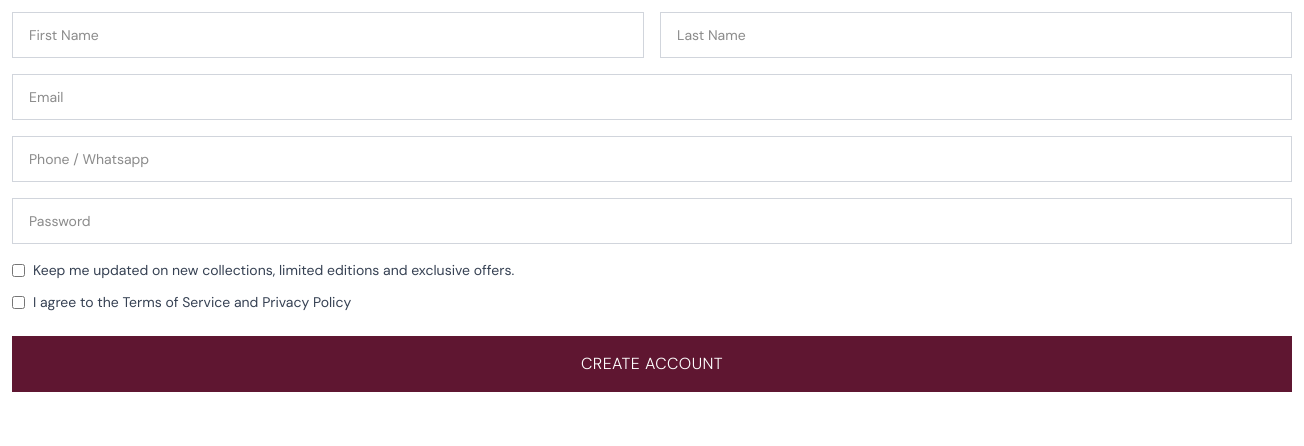
Scenario: CreateAccountForm › Interactions › blocks submission until terms are agreed to
Type "Jane" into the field labelled "First Name" at (328, 35), box [12,12,644,58]
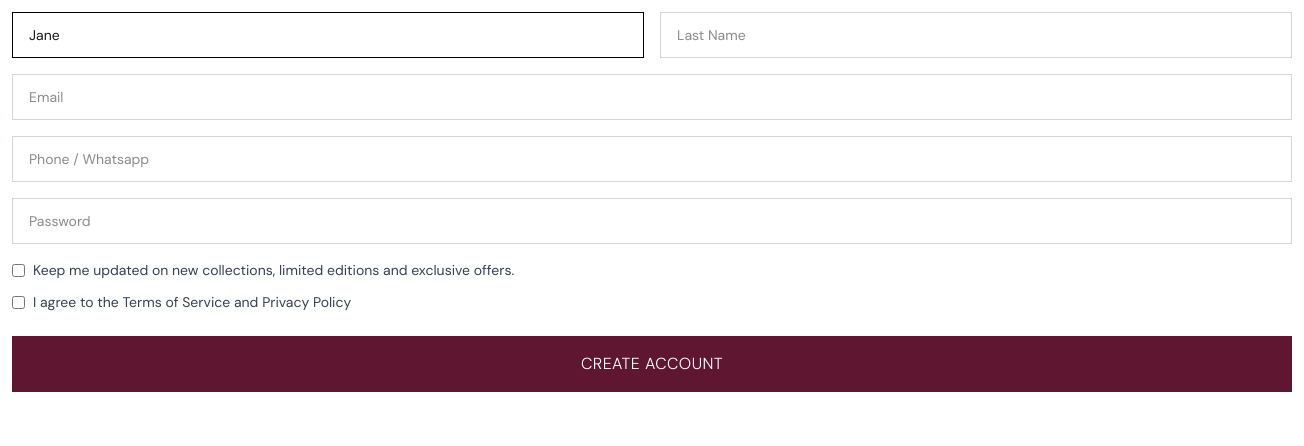
Type "Doe" into the field labelled "Last Name" at (976, 35), box [660,12,1292,58]
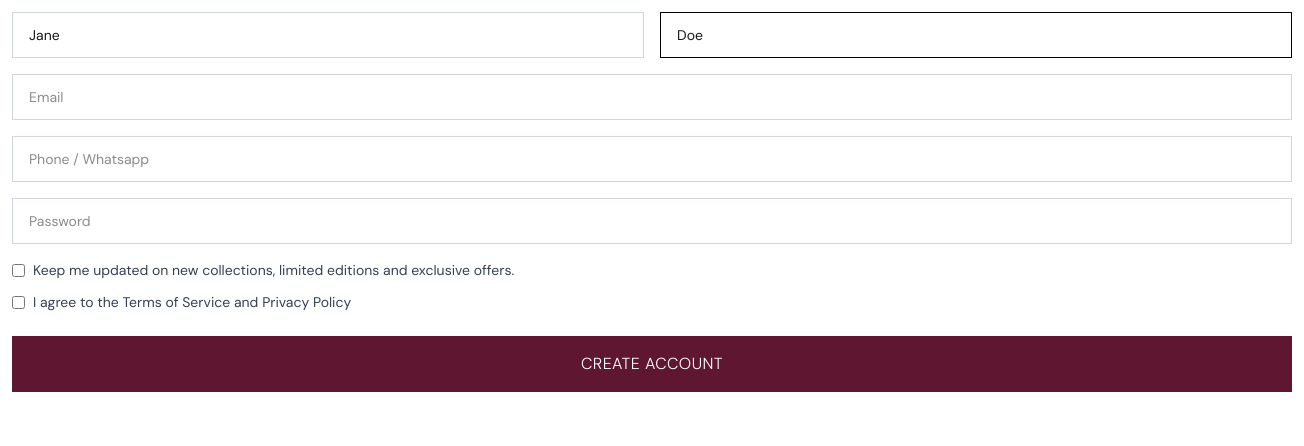
Type "jane@example.com" into the field labelled "Email" at (652, 97), box [12,74,1292,120]
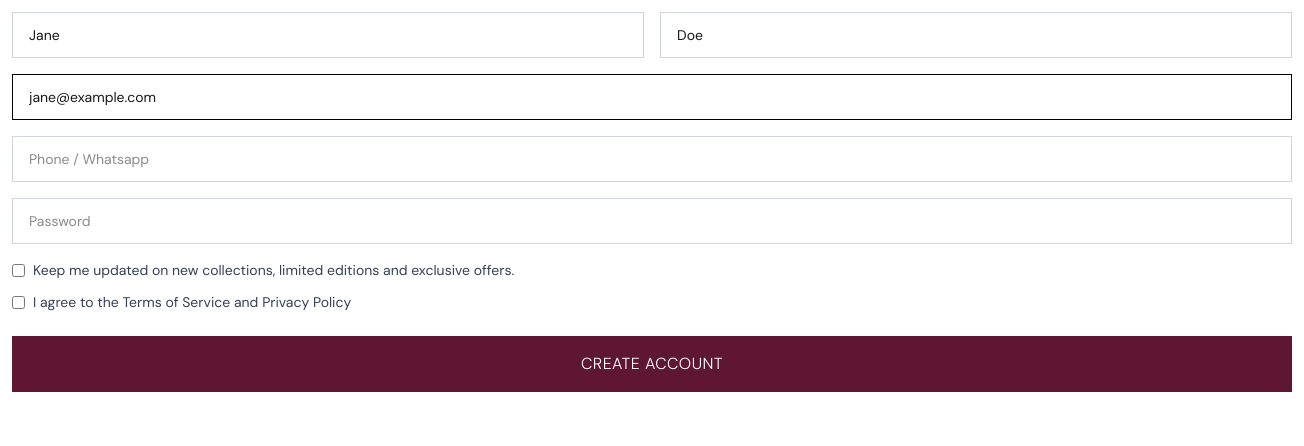
Type "password123" into the password field labelled "Password" at (652, 221), box [12,198,1292,244]
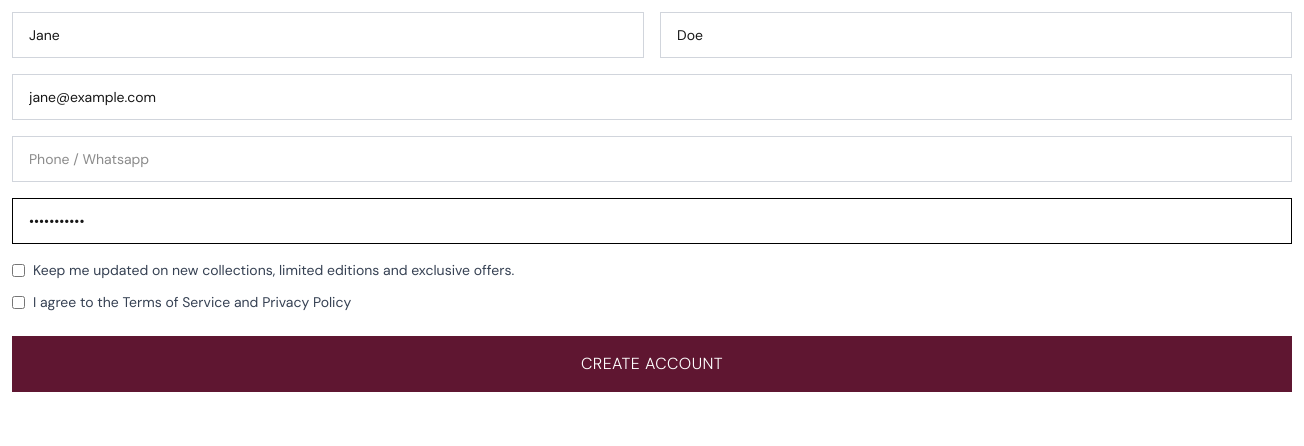
Click the button "CREATE ACCOUNT" at (652, 364), box [12,336,1292,392]
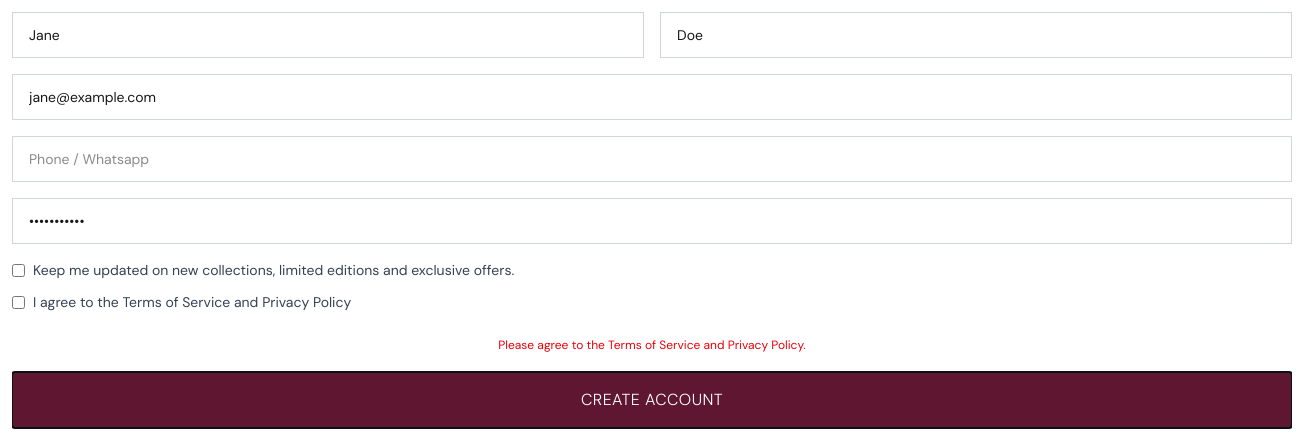
Now the message reads "Please agree to the Terms of Service and Privacy Policy.", box [498,337,806,353]
